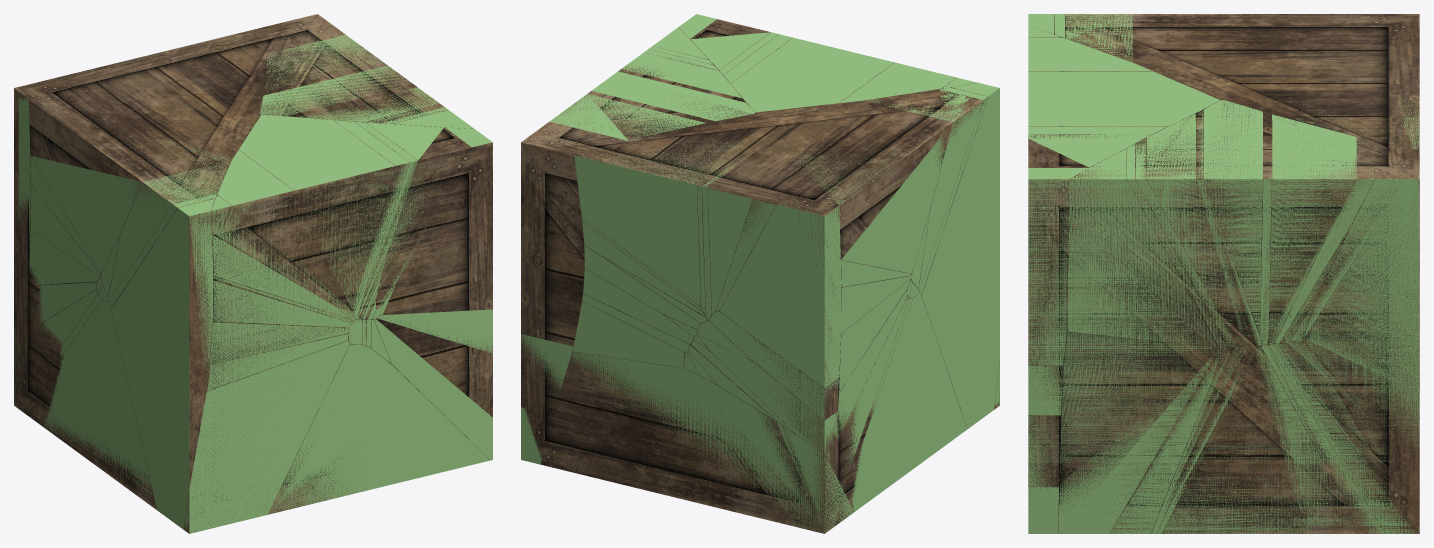
File: breakCubo.fbx
3 views of the same model, side by side, from view 1: azimuth 30°, elevation 25°; view 2: azimuth 150°, elevation 25°; view 3: azimuth 270°, elevation 25° (orthographic). The views are drawn at different scales.
Parts seen in each view (by area): view 1: Cube, Cube_cell.020, Cube_cell.031, Cube_cell.075, Cube_cell.014, Cube_cell.054, Cube_cell.033, Cube_cell.051, Cube_cell.092, Cube_cell.071, Cube_cell.090, Cube_cell.087 (+18 smaller); view 2: Cube, Cube_cell.020, Cube_cell.015, Cube_cell.043, Cube_cell.014, Cube_cell.059, Cube_cell.054, Cube_cell.033, Cube_cell.034, Cube_cell.035, Cube_cell.087, Cube_cell.051 (+26 smaller); view 3: Cube, Cube_cell.016, Cube_cell.073, Cube_cell.011, Cube_cell.047, Cube_cell.054, Cube_cell.087, Cube_cell.028, Cube_cell.084, Cube_cell.053, Cube_cell.063, Cube_cell.056 (+25 smaller).
Boxes of the visible parts, x1,y1,x2,y2 form: Cube: (14, 14, 492, 533); Cube_cell.020: (111, 199, 214, 529); Cube_cell.031: (269, 344, 490, 514); Cube_cell.075: (184, 341, 349, 533); Cube_cell.014: (44, 300, 151, 498); Cube_cell.054: (239, 114, 394, 305); Cube_cell.033: (31, 140, 230, 272); Cube_cell.051: (108, 161, 230, 300); Cube_cell.092: (374, 319, 492, 460); Cube_cell.071: (210, 322, 349, 364); Cube_cell.090: (213, 280, 351, 327); Cube_cell.087: (259, 65, 411, 115); Cube: (521, 19, 999, 533); Cube_cell.020: (922, 83, 999, 428); Cube_cell.015: (571, 352, 853, 533); Cube_cell.043: (719, 200, 841, 388); Cube_cell.014: (851, 292, 967, 511); Cube_cell.059: (574, 141, 738, 306); Cube_cell.054: (731, 38, 894, 112); Cube_cell.033: (782, 132, 947, 273); Cube_cell.034: (697, 334, 839, 454); Cube_cell.035: (573, 301, 684, 367); Cube_cell.087: (591, 71, 755, 121); Cube_cell.051: (866, 89, 982, 290); Cube: (1028, 14, 1419, 533); Cube_cell.016: (1067, 149, 1217, 346); Cube_cell.073: (1308, 179, 1418, 392); Cube_cell.011: (1269, 114, 1356, 334); Cube_cell.047: (1059, 332, 1215, 482); Cube_cell.054: (1028, 71, 1219, 126); Cube_cell.087: (1203, 100, 1262, 334); Cube_cell.028: (1058, 349, 1218, 533); Cube_cell.084: (1028, 168, 1088, 365); Cube_cell.053: (1146, 113, 1241, 344); Cube_cell.063: (1162, 389, 1306, 533); Cube_cell.056: (1110, 348, 1220, 533).
Bounding box in the file's own units: 2 × 2 × 2.
